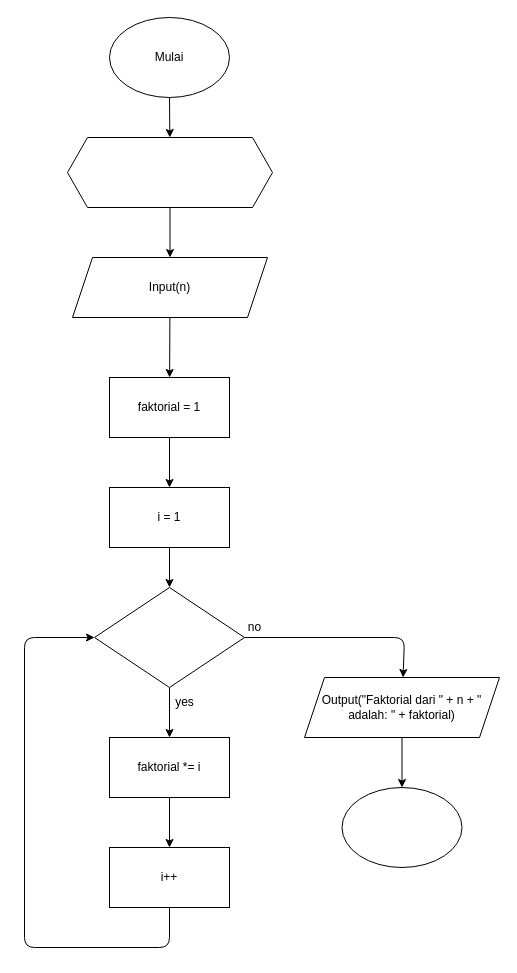
This 517x973 diagram has some shape labels left out. The box of each missing label's shape, as (x1, y1, x2, y2) in pixels:
i <= n: (94, 586, 244, 688)
int n, faktorial, i: (66, 136, 272, 208)
Selesai: (341, 786, 462, 868)
